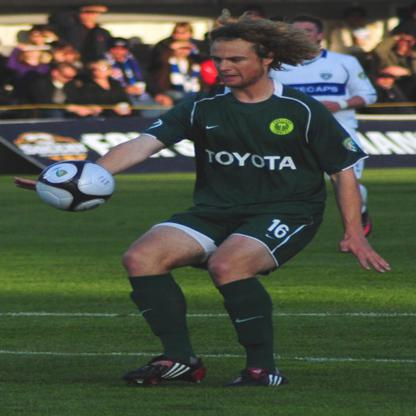face: (210, 40, 263, 87), (288, 22, 318, 47)
